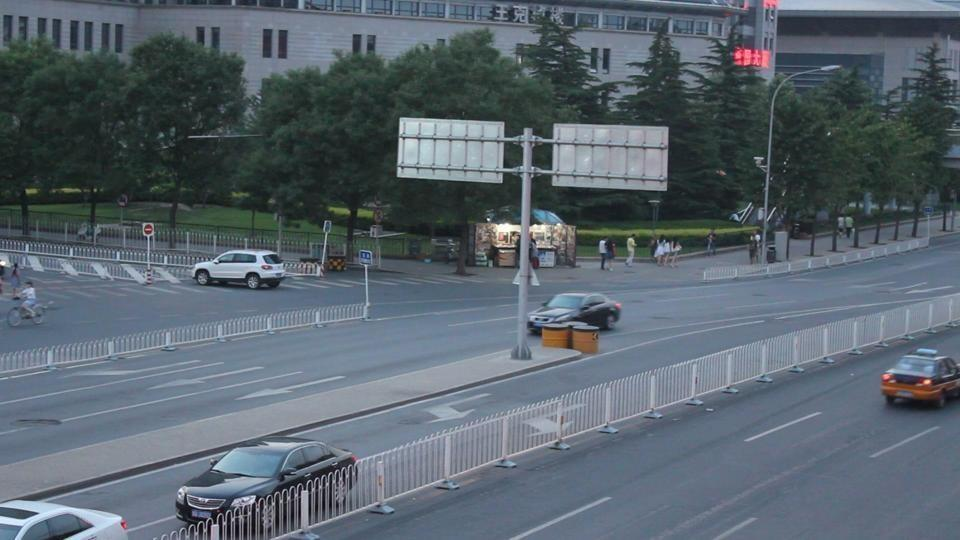car: (174, 439, 358, 524), (0, 495, 130, 539), (879, 349, 960, 408), (526, 292, 623, 335), (191, 250, 285, 288)
